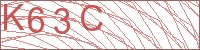3: (53, 7, 71, 35)
6: (27, 5, 45, 35)
C: (80, 4, 104, 32)
K: (2, 3, 25, 31)
